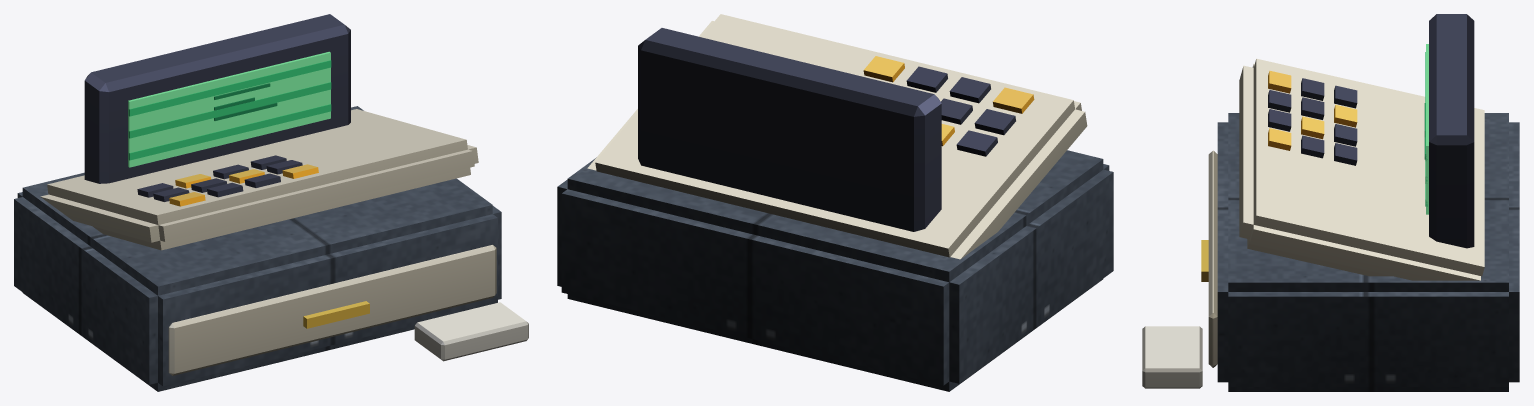
The model's file is cash_register.glb.
3 views of the same model, side by side, from view 1: azimuth 30°, elevation 25°; view 2: azimuth 150°, elevation 25°; view 3: azimuth 270°, elevation 25° (orthographic). The views are drawn at different scales.
Visible parts, largest first — view 1: cash_register; view 2: cash_register; view 3: cash_register.
Part boxes in pixels (x1,y1,x2,y2): cash_register: (14,14,528,391); cash_register: (557,14,1113,391); cash_register: (1142,14,1519,391).
Bounding box in the file's own units: 0.56 × 0.342 × 0.5.
Materials: 8 (8 with a texture image).
